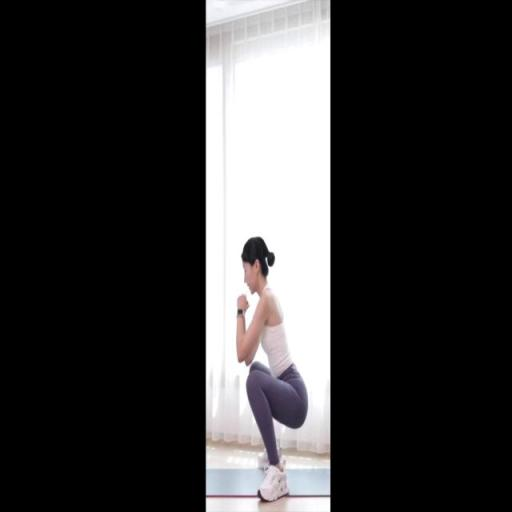Normal_BrenchPress: (234, 236, 309, 503)
